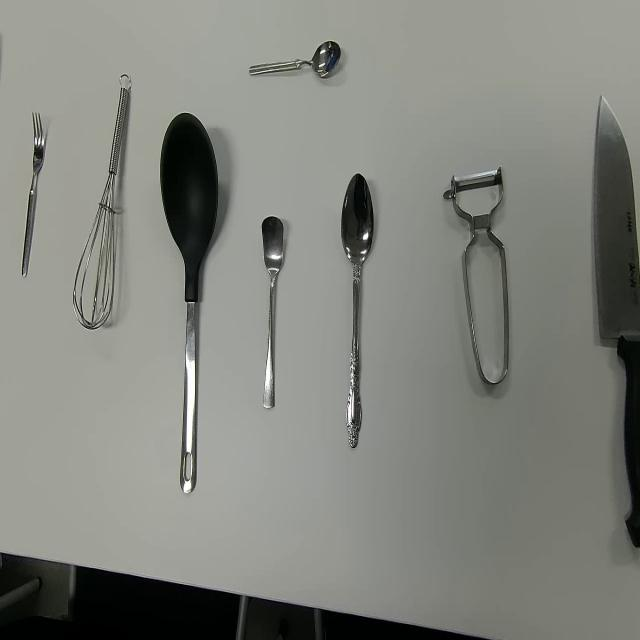Desert-Spoon: (341, 171, 375, 451)
Dinner-Fork: (20, 110, 46, 278)
Kitchen-Knife: (593, 90, 640, 550)
Peeler: (442, 163, 510, 388)
Serving-Spoon: (159, 110, 219, 496)
Tea-Spoon: (261, 214, 285, 411), (248, 38, 342, 79)
Whisk: (72, 72, 132, 331)
